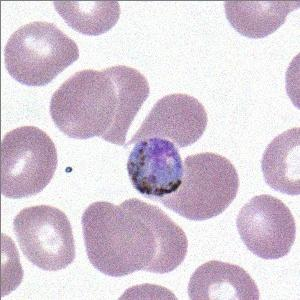Infected: (125, 140, 184, 198)
Uninfected: (81, 200, 155, 276), (112, 199, 187, 272), (50, 70, 120, 141), (168, 152, 239, 221), (4, 20, 78, 86), (2, 125, 58, 201), (96, 66, 150, 144), (13, 205, 74, 270), (136, 92, 207, 147), (237, 196, 296, 260), (188, 261, 258, 300), (262, 125, 299, 194)
